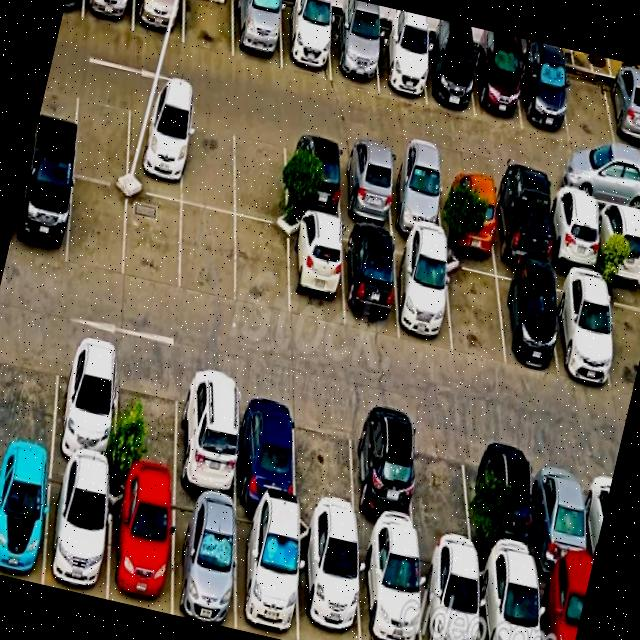empty: (114, 350, 179, 488), (296, 394, 356, 530), (415, 419, 473, 557), (0, 323, 60, 456), (445, 252, 505, 363), (67, 176, 128, 277), (73, 82, 130, 186), (124, 190, 181, 293), (180, 203, 235, 303), (182, 108, 234, 213), (235, 120, 286, 226), (235, 217, 288, 316), (560, 68, 616, 153), (605, 281, 640, 396), (183, 0, 233, 56)
occupied: (43, 461, 110, 599), (52, 335, 119, 472), (108, 476, 172, 614), (172, 490, 235, 629), (353, 407, 417, 543), (235, 505, 298, 640), (176, 365, 238, 502), (236, 379, 295, 513), (535, 445, 591, 579), (299, 518, 360, 640), (485, 433, 537, 568), (552, 270, 613, 385), (0, 450, 52, 584), (9, 160, 73, 265), (358, 535, 421, 640), (394, 238, 452, 351), (496, 263, 557, 370), (127, 95, 186, 201), (343, 226, 399, 336), (289, 215, 343, 326), (419, 545, 480, 640), (492, 176, 549, 268), (478, 558, 539, 640), (441, 165, 496, 254), (286, 132, 341, 221), (388, 153, 443, 239), (340, 143, 393, 230), (548, 187, 600, 274), (518, 55, 569, 141), (472, 45, 522, 128), (280, 1, 331, 80), (423, 38, 474, 117), (375, 27, 426, 104), (537, 569, 589, 640), (597, 197, 640, 282), (331, 16, 378, 90), (233, 0, 281, 69), (604, 77, 640, 158), (133, 0, 184, 42), (82, 0, 134, 31)
